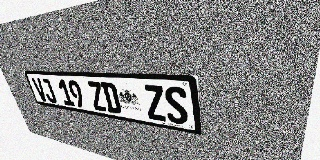1: (56, 79, 75, 106)
9: (66, 80, 86, 108)
D: (100, 82, 122, 114)
J: (40, 78, 58, 104)
S: (163, 86, 189, 125)
V: (31, 78, 49, 102)
Z: (143, 85, 167, 122), (86, 81, 108, 112)
